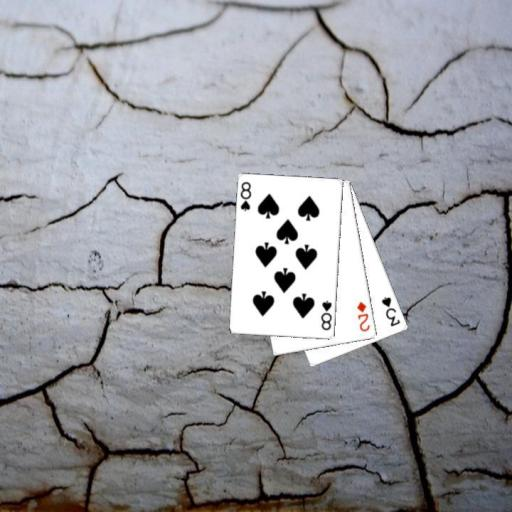2D: (354, 299, 372, 333)
3S: (378, 294, 402, 328)
8S: (318, 297, 333, 332), (238, 179, 253, 213)
